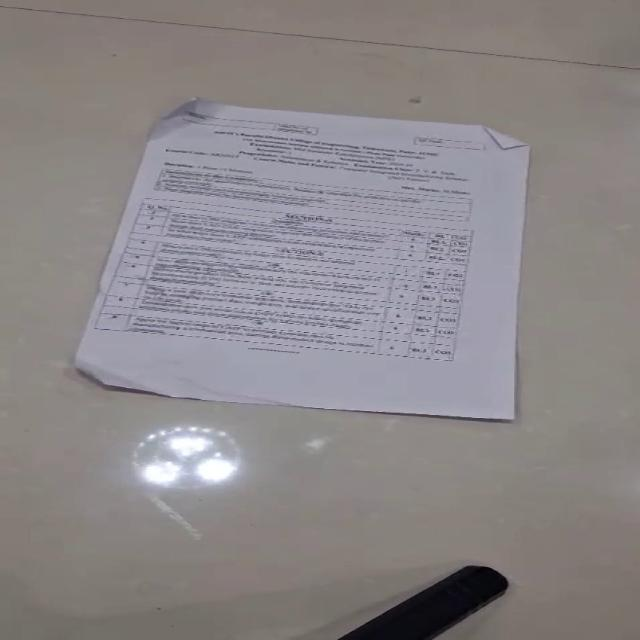paper: (72, 96, 530, 421)
